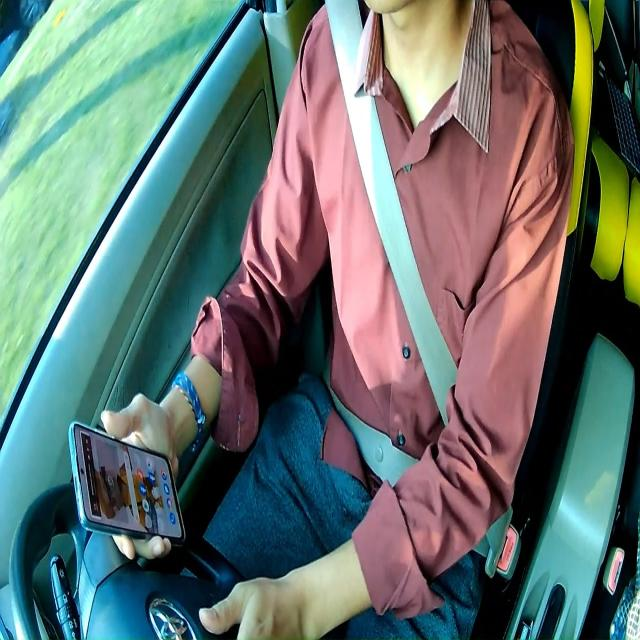phone: (68, 418, 188, 550)
